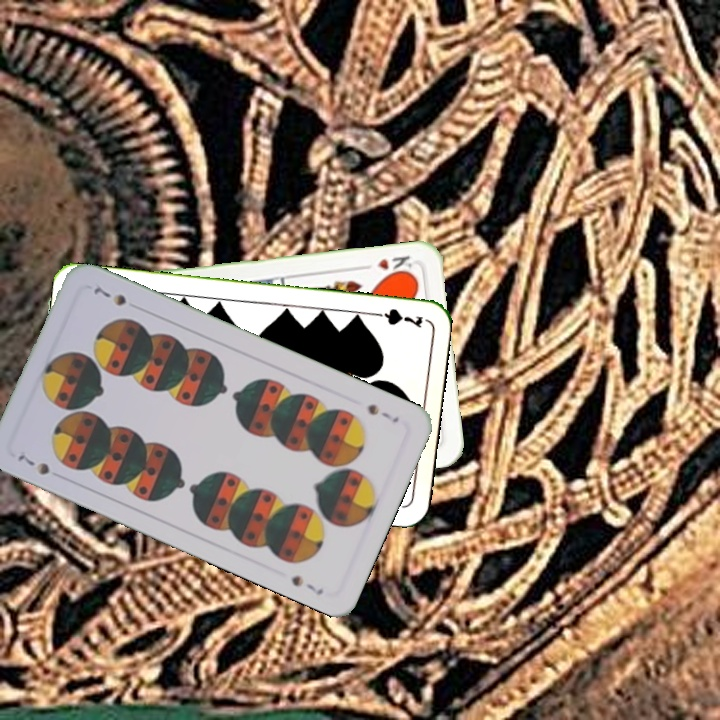G7: (366, 304, 425, 331)
HK: (374, 251, 417, 279)
S7: (14, 446, 52, 478), (363, 399, 402, 426)
